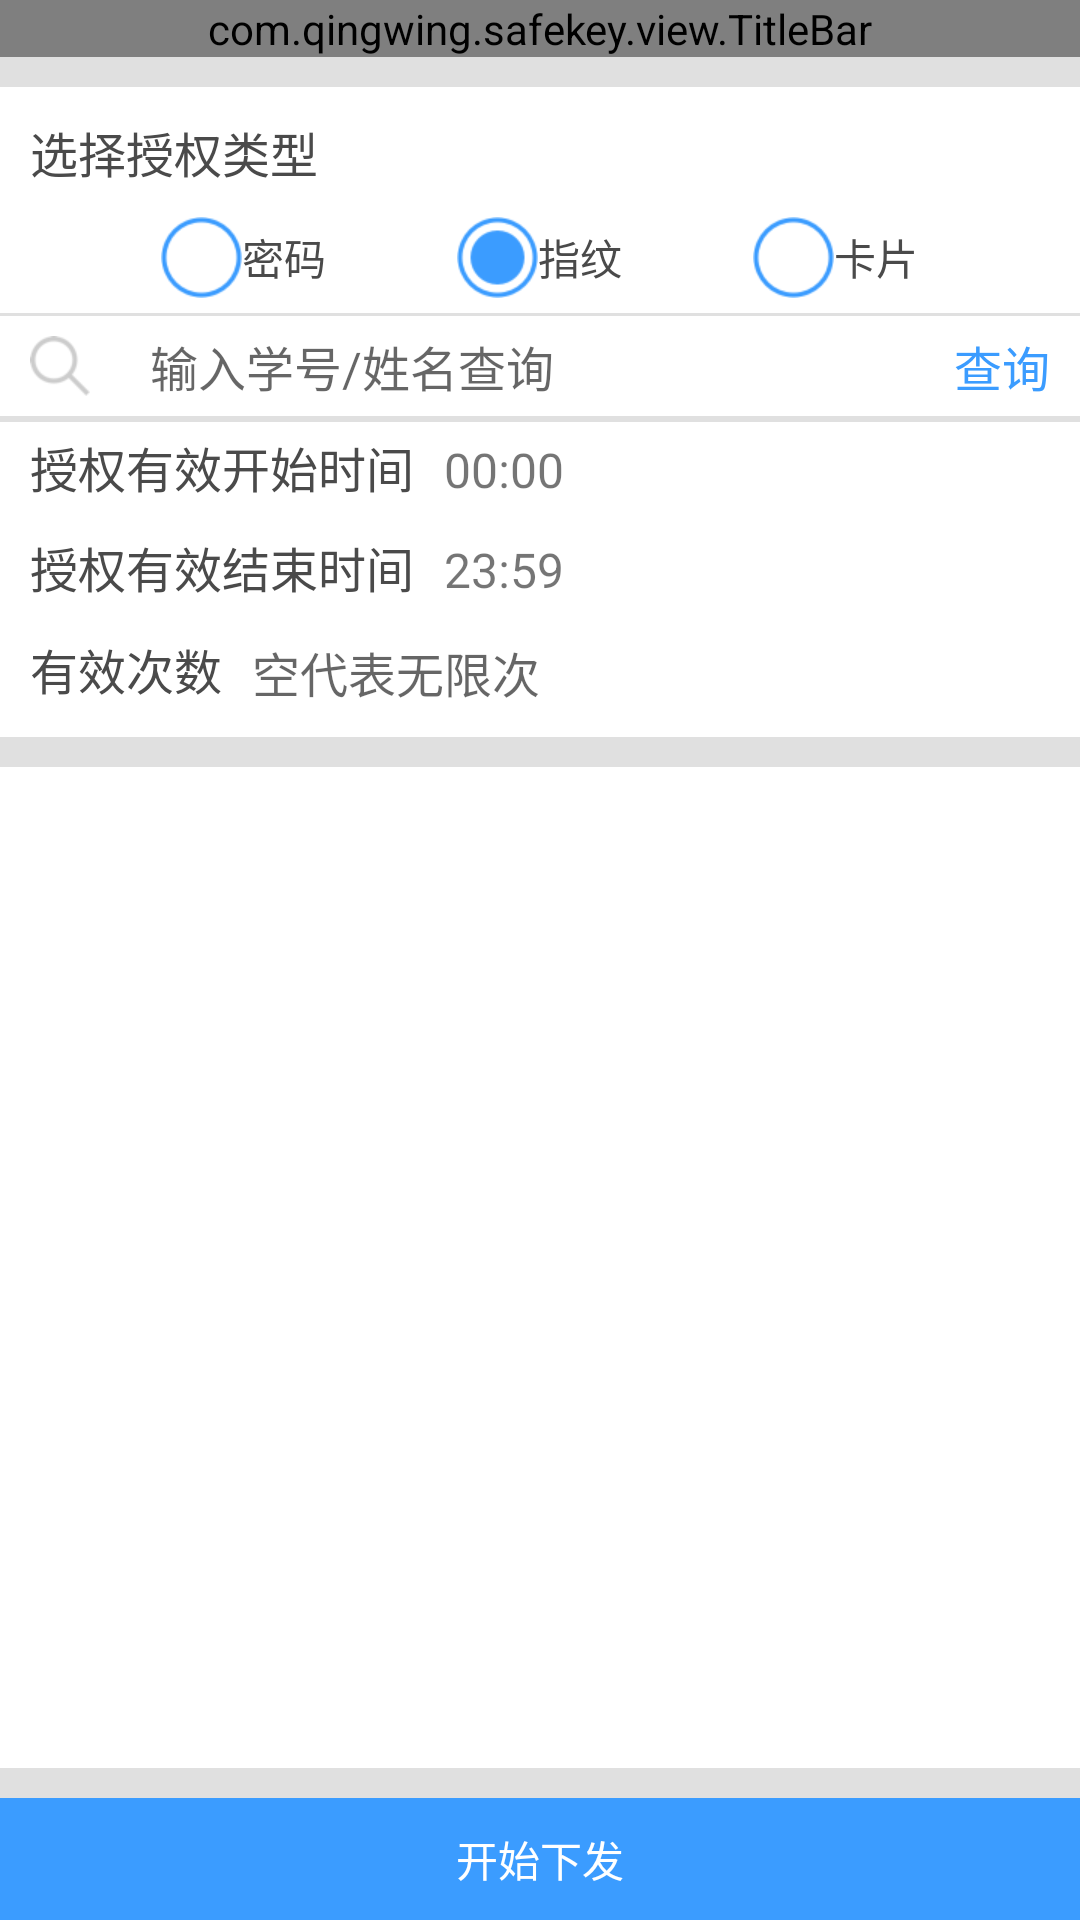

Named icons in this screenshot (1080*1920) and their bounding boxes, BBox(x1, y1, x2, y2):
search: BBox(30, 336, 89, 395)
